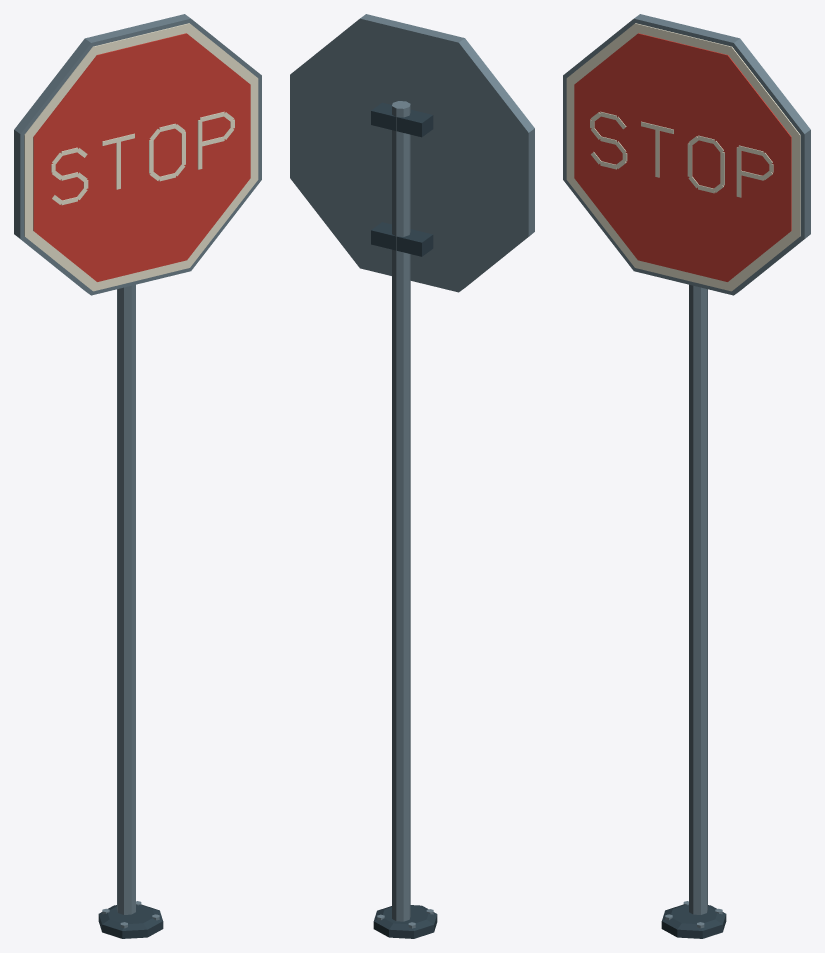
Rendered from sign_stop.glb.
3 renders of one model, left to right at view 1: azimuth 30°, elevation 25°; view 2: azimuth 150°, elevation 25°; view 3: azimuth 330°, elevation 25°, orthographic.
Parts seen in each view (by area): view 1: sign_stop; view 2: sign_stop; view 3: sign_stop.
Boxes of the visible parts, x1,y1,x2,y2 form: sign_stop: (14, 14, 261, 938); sign_stop: (290, 14, 534, 938); sign_stop: (563, 14, 810, 938).
Size of the model in its own units: 0.7945 by 2.84 by 0.19.
